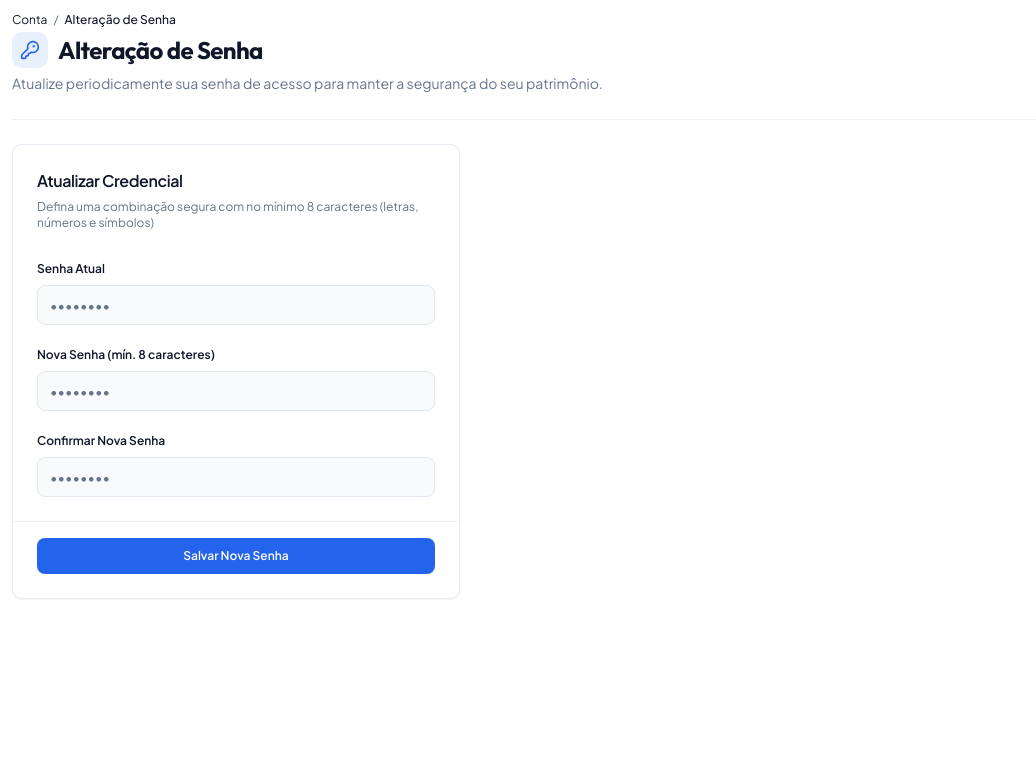
Test case: Tela de Alteração de Senha (AccountPasswordPage) › 3. Valida campos obrigatórios no submit
What coordinates should you click on to do the following:
click the button "Salvar Nova Senha"
I would click on:
 (236, 556)
Its box is [37, 538, 435, 574].
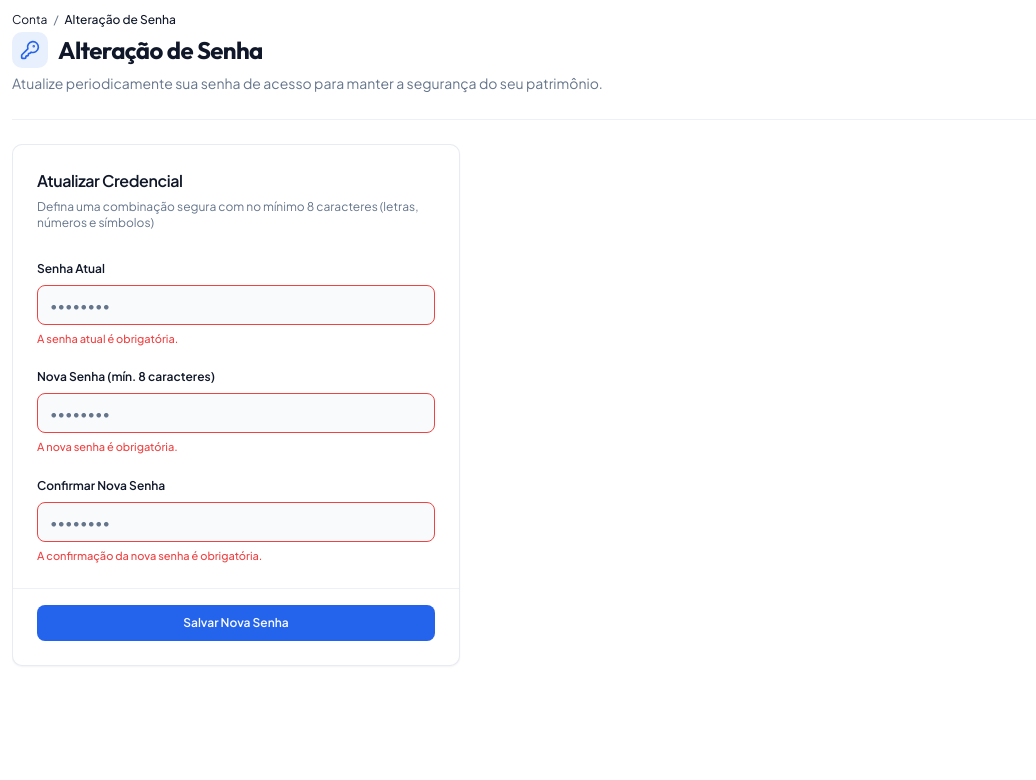
Now the text "A senha atual é obrigatória." is shown, box [37, 332, 178, 345]
Now the text "A nova senha é obrigatória." is shown, box [37, 440, 178, 453]
Now the text "A confirmação da nova senha é obrigatória." is shown, box [37, 549, 262, 562]
